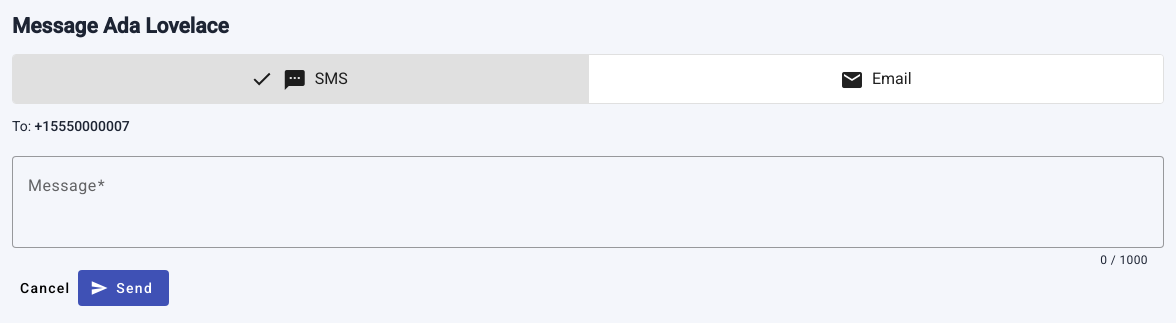
it: SendMessageDialogComponent › validation › refuses an empty message
What coordinates should you click on to do the following:
click the submit button
I would click on:
 (124, 288)
Its box is [78,270,169,306].
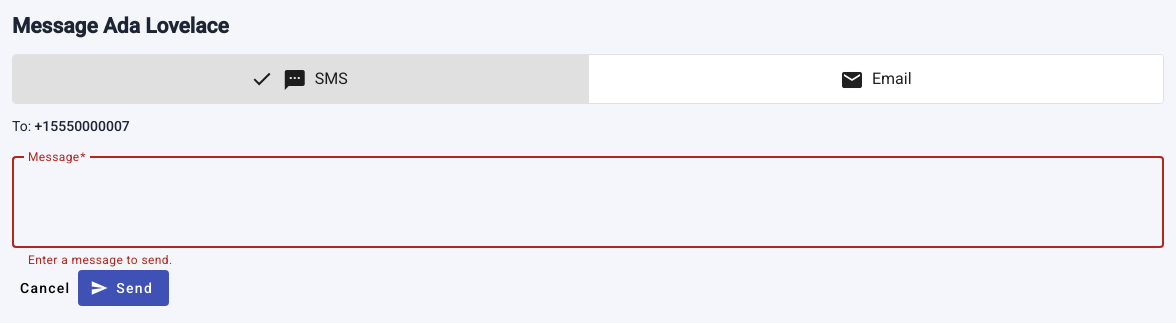
Check: the text "Enter a message to send." is shown, box [28,253,172,267]
